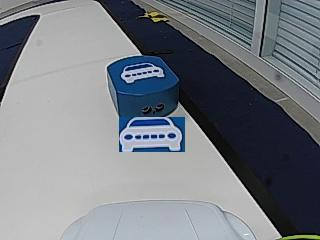safety: (119, 61, 166, 82)
